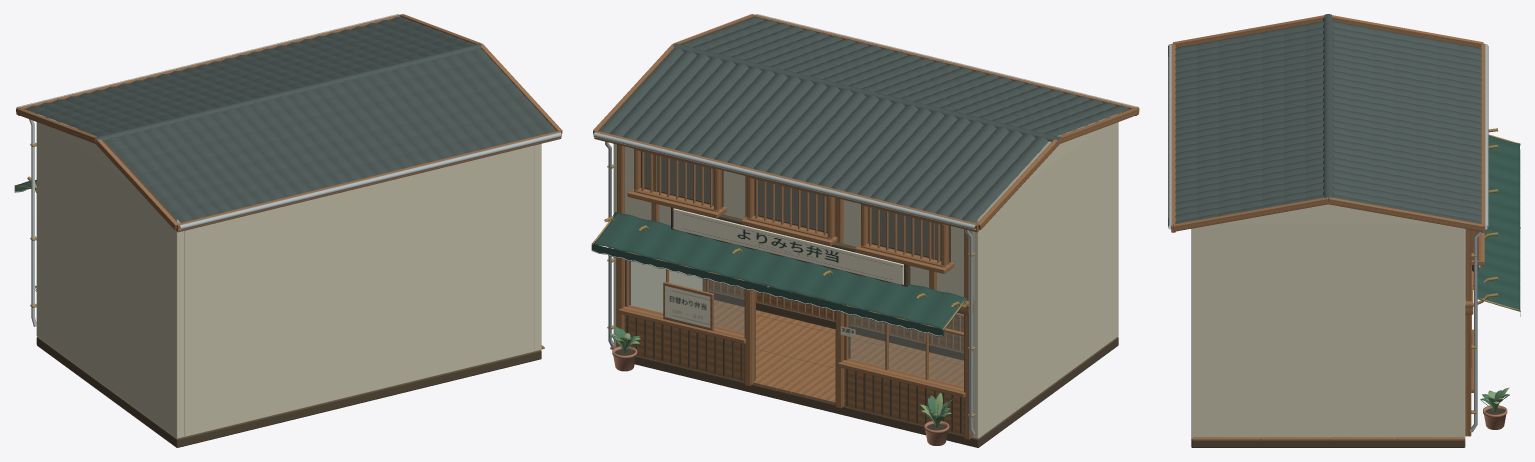
File: yorimichi-shop.glb
The picture shows the model from 3 angles, left to right: view 1: azimuth 30°, elevation 25°; view 2: azimuth 150°, elevation 25°; view 3: azimuth 270°, elevation 25°; orthographic projection. The views are drawn at different scales.
Visible parts, largest first — view 1: shop_Lime plaster, shop_Glazed grey-green tile, shop_Cedar, shop_Stained end grain, shop_Brushed stainless steel; view 2: shop_Glazed grey-green tile, shop_Cedar, shop_Lime plaster, shop_Stained end grain, shop_Sage woven cotton, shop_Window glass, shop_Editable signage atlas, shop_Brushed stainless steel, shop_Porcelain warm white, shop_Clay terracotta, shop_Leaf dark, shop_Aged brass; view 3: shop_Lime plaster, shop_Glazed grey-green tile, shop_Cedar, shop_Sage woven cotton, shop_Brushed stainless steel, shop_Stained end grain, shop_Aged brass, shop_Clay terracotta.
Boxes of the visible parts, bbox=[...] form: shop_Lime plaster: bbox=[36, 114, 541, 438]; shop_Glazed grey-green tile: bbox=[25, 16, 556, 222]; shop_Cedar: bbox=[16, 14, 562, 349]; shop_Stained end grain: bbox=[36, 337, 541, 447]; shop_Brushed stainless steel: bbox=[16, 14, 561, 326]; shop_Glazed grey-green tile: bbox=[599, 16, 1129, 222]; shop_Cedar: bbox=[593, 14, 1139, 439]; shop_Lime plaster: bbox=[613, 114, 1118, 438]; shop_Stained end grain: bbox=[625, 151, 1118, 447]; shop_Sage woven cotton: bbox=[591, 212, 967, 336]; shop_Window glass: bbox=[630, 153, 963, 385]; shop_Editable signage atlas: bbox=[665, 211, 899, 337]; shop_Brushed stainless steel: bbox=[593, 14, 1138, 435]; shop_Porcelain warm white: bbox=[591, 208, 963, 336]; shop_Clay terracotta: bbox=[612, 346, 949, 445]; shop_Leaf dark: bbox=[609, 326, 953, 427]; shop_Aged brass: bbox=[591, 164, 975, 417]; shop_Lime plaster: bbox=[1191, 204, 1465, 438]; shop_Glazed grey-green tile: bbox=[1175, 14, 1481, 224]; shop_Cedar: bbox=[1171, 15, 1485, 440]; shop_Sage woven cotton: bbox=[1477, 135, 1519, 310]; shop_Brushed stainless steel: bbox=[1168, 44, 1488, 432]; shop_Stained end grain: bbox=[1191, 265, 1478, 447]; shop_Aged brass: bbox=[1471, 128, 1520, 413]; shop_Clay terracotta: bbox=[1483, 405, 1507, 429].
Size of the model in its own units: 9.08 by 5.86 by 7.34.
19 materials, 5 textured.
